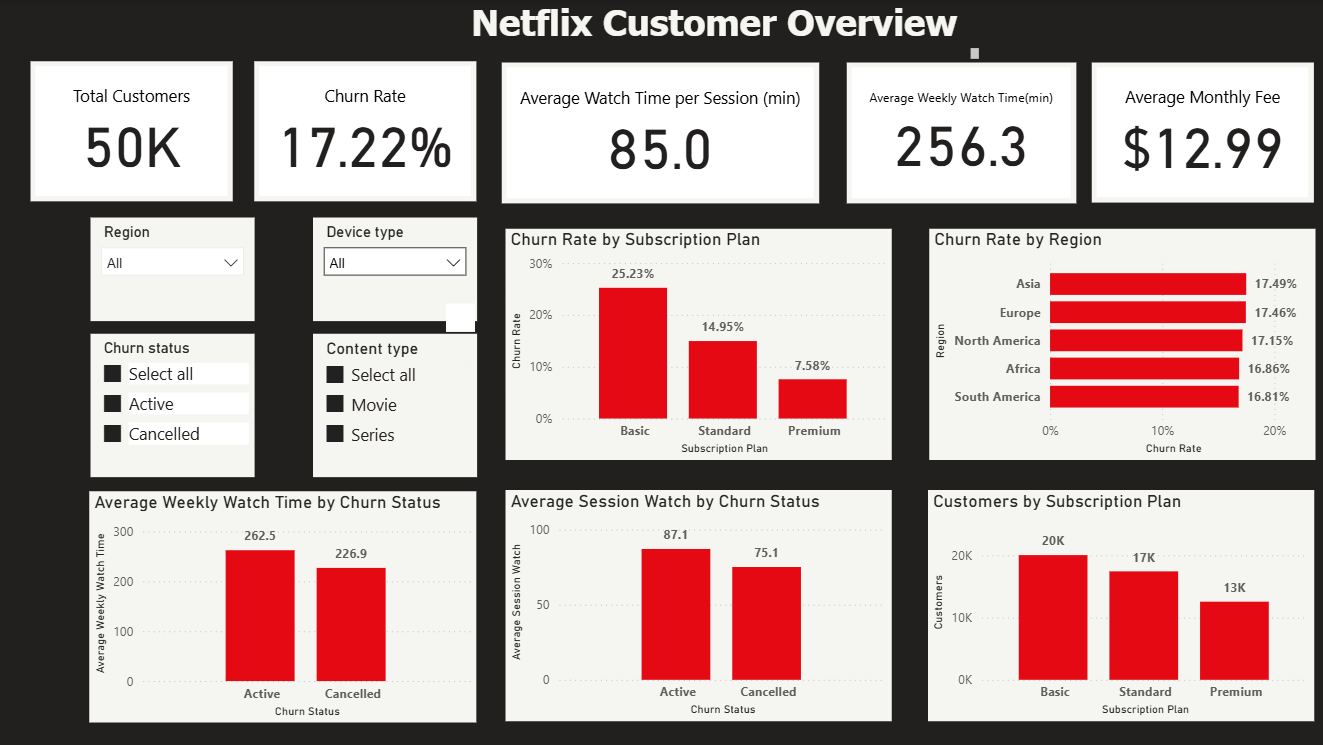

The page's visual inventory and layout, read from the dashboard file:
{"tool":"powerbi","page":{"name":"Customer Overview","canvas":[1280,720],"ordinal":0},"visuals":[{"type":"textbox","title":"Netflix Customer Overview","box":[430.7,0,521.2,61.5],"z":0},{"type":"cardVisual","fields":{"Data":["netflix.Total Customers"]},"box":[31.4,59.1,195.4,135.1],"z":1000},{"type":"cardVisual","fields":{"Data":["netflix.Churn Rate"]},"box":[247.3,59.1,214.7,135.1],"z":2000},{"type":"cardVisual","fields":{"Data":["netflix.Average Monthly Fee"]},"box":[1055.6,60.3,214.7,135.1],"z":3000},{"type":"cardVisual","fields":{"Data":["netflix.Average Watch Time"]},"box":[486.2,60.3,306.4,136.3],"z":4000},{"type":"cardVisual","fields":{"Data":["netflix.Average Weekly Watch Time"]},"box":[819.2,60.3,222,136.3],"z":5000},{"type":"clusteredColumnChart","fields":{"Category":["netflix.subscription_plan"],"Y":["netflix.Total Customers"]},"box":[897.6,472.9,372.8,223.2],"z":6000},{"type":"clusteredColumnChart","fields":{"Category":["netflix.subscription_plan"],"Y":["netflix.Churn Rate"]},"box":[489.8,220.8,372.8,223.2],"z":7000},{"type":"barChart","fields":{"Category":["netflix.region"],"Y":["netflix.Churn Rate"]},"box":[898.8,220.8,372.8,223.2],"z":8000},{"type":"clusteredColumnChart","fields":{"Category":["netflix.churn_status"],"Y":["netflix.Average Watch Time"]},"box":[489.8,472.9,372.8,223.2],"z":9000},{"type":"slicer","fields":{"Values":["netflix.region"]},"box":[89.3,209.9,158,100.1],"z":10000},{"type":"slicer","fields":{"Values":["netflix.device_type"]},"box":[304,209.9,158,100.1],"z":11000},{"type":"slicer","fields":{"Values":["netflix.content_type"]},"box":[304,322.1,158,138.7],"z":12000},{"type":"slicer","fields":{"Values":["netflix.churn_status"]},"box":[89.3,322.1,158,138.7],"z":13000},{"type":"clusteredColumnChart","fields":{"Category":["netflix.churn_status"],"Y":["netflix.Average Weekly Watch Time"]},"box":[88.1,474.1,374,223.2],"z":14000}]}

Visuals, with their boxes in screenshot pixels (x1, y1, x2, y2), scaled from the page's 1280x720 canvas onto the 1323x745 screenshot:
"Netflix Customer Overview" textbox: bbox=(445, 0, 984, 64)
cardVisual - netflix.Total Customers: bbox=(32, 61, 234, 201)
cardVisual - netflix.Churn Rate: bbox=(256, 61, 478, 201)
cardVisual - netflix.Average Monthly Fee: bbox=(1091, 62, 1313, 202)
cardVisual - netflix.Average Watch Time: bbox=(503, 62, 819, 203)
cardVisual - netflix.Average Weekly Watch Time: bbox=(847, 62, 1076, 203)
clusteredColumnChart - netflix.subscription_plan x netflix.Total Customers: bbox=(928, 489, 1313, 720)
clusteredColumnChart - netflix.subscription_plan x netflix.Churn Rate: bbox=(506, 228, 892, 459)
barChart - netflix.region x netflix.Churn Rate: bbox=(929, 228, 1314, 459)
clusteredColumnChart - netflix.churn_status x netflix.Average Watch Time: bbox=(506, 489, 892, 720)
slicer - netflix.region: bbox=(92, 217, 256, 321)
slicer - netflix.device_type: bbox=(314, 217, 478, 321)
slicer - netflix.content_type: bbox=(314, 333, 478, 477)
slicer - netflix.churn_status: bbox=(92, 333, 256, 477)
clusteredColumnChart - netflix.churn_status x netflix.Average Weekly Watch Time: bbox=(91, 491, 478, 722)
